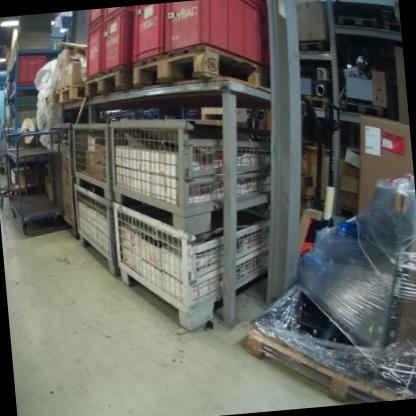pallet: (241, 306, 416, 412), (128, 39, 273, 106), (81, 61, 133, 99), (339, 94, 386, 122), (338, 9, 381, 34), (49, 83, 87, 104), (302, 91, 330, 113), (335, 202, 358, 222), (383, 18, 402, 36)
pallet_truck: (286, 102, 355, 259)
small_load_carrier: (160, 0, 269, 80), (97, 9, 146, 77), (124, 3, 174, 68), (80, 21, 114, 85), (15, 52, 52, 90), (83, 8, 109, 31), (101, 6, 135, 23)
stillage: (109, 189, 290, 335), (107, 105, 291, 236), (71, 180, 128, 282), (46, 115, 84, 239), (71, 116, 118, 201)
